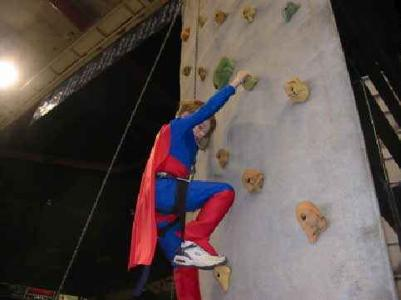person: (128, 70, 252, 300)
